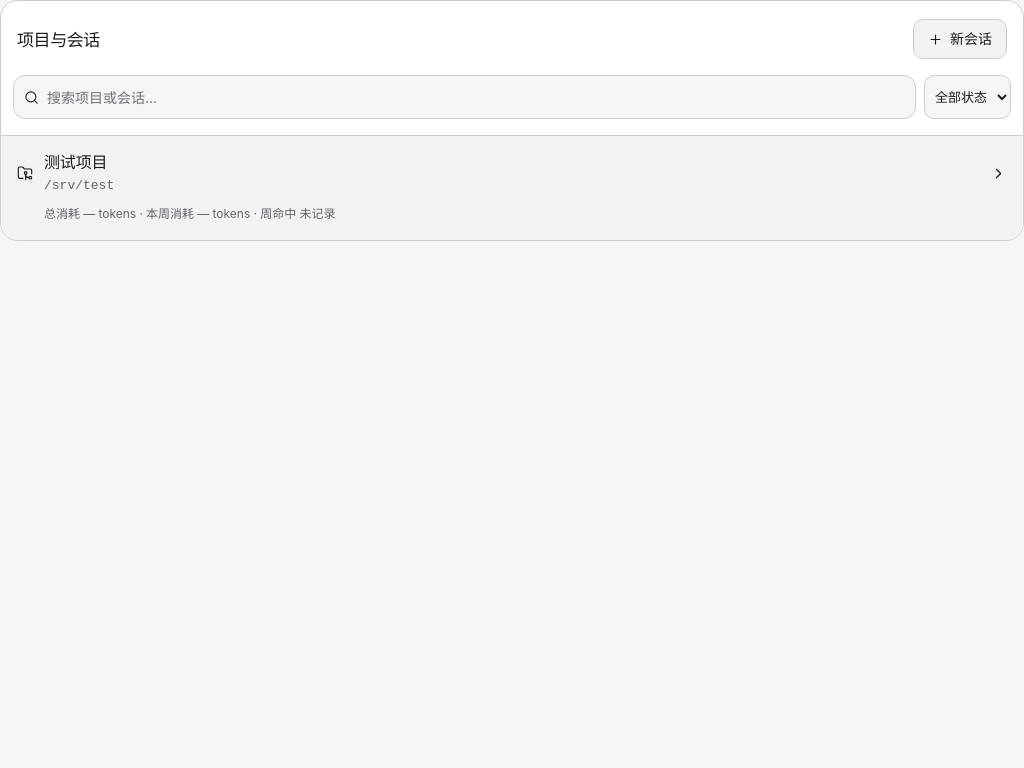
it: 会话行在历史标记右侧展示独立 token 数，并区分零和未记录
The width and height of the screenshot is (1024, 768).
Click the button "测试项目 /srv/test" at (76, 162), box top-left (1, 136), bottom-right (1023, 196)
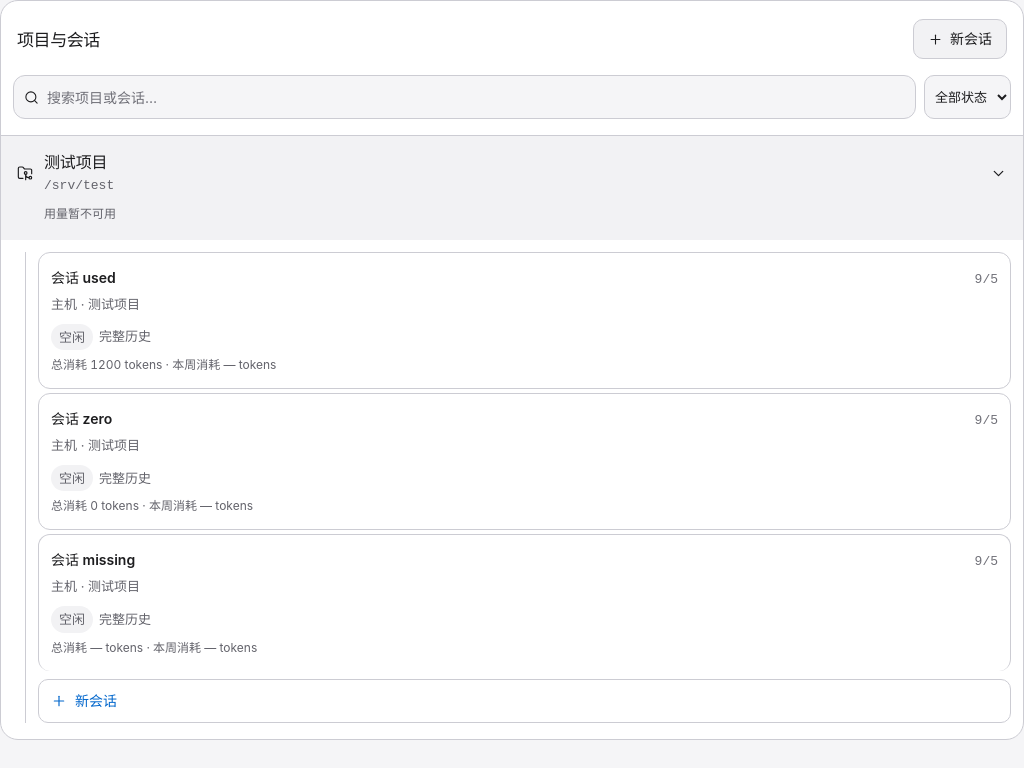
Now the text "会话 used" is shown, box top-left (51, 267), bottom-right (116, 288)
Now the number of elements with class "session-row__tokens" is 3, box top-left (51, 357), bottom-right (276, 372); top-left (51, 498), bottom-right (253, 513); top-left (51, 640), bottom-right (257, 655)
Now the text with class "session-row__tokens" reads "总消耗 0 tokens · 本周消耗 — tokens", box top-left (51, 498), bottom-right (253, 513)
